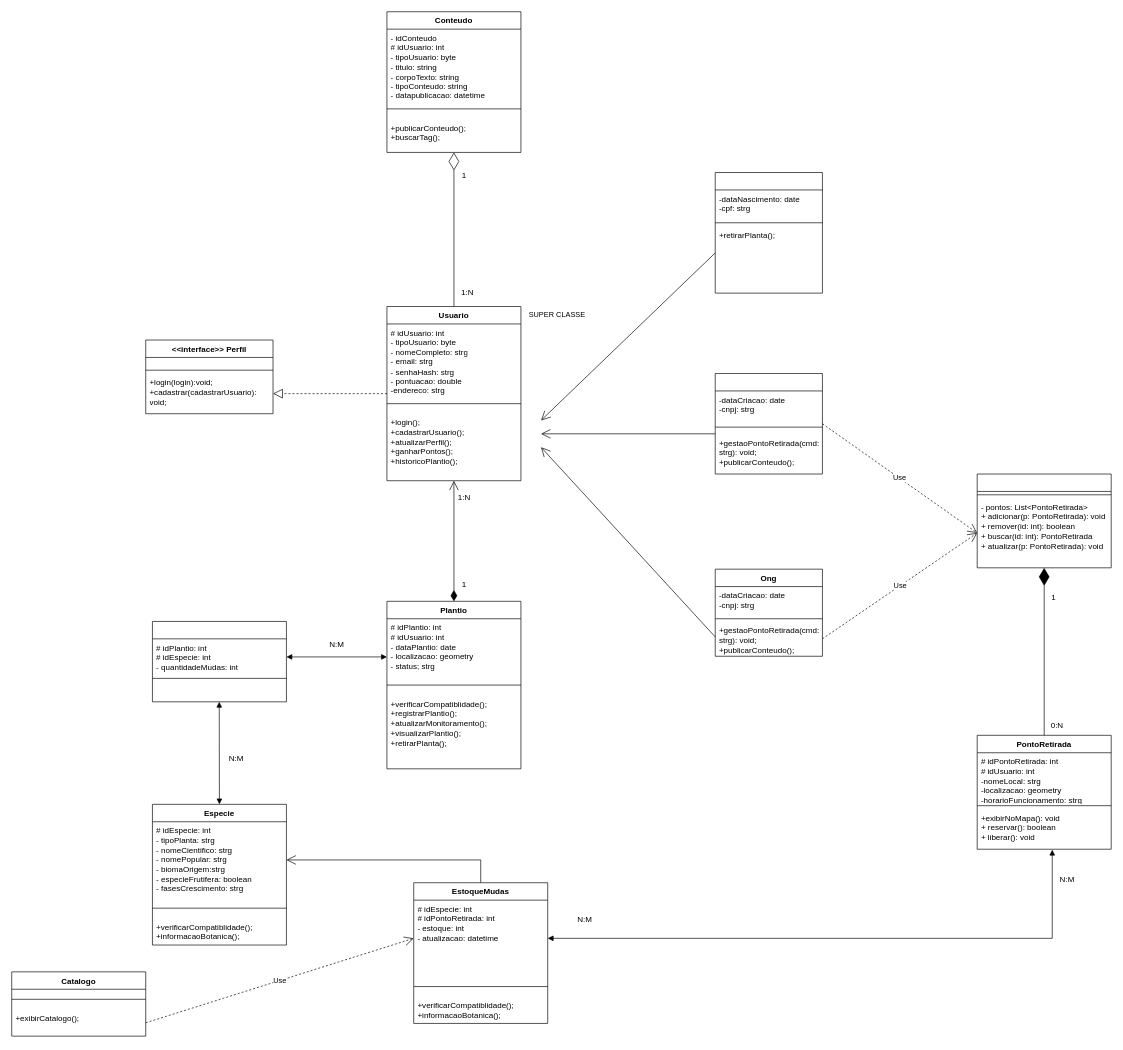
Some shapes in this 1123 by 1050 pixel diagram are drawn without their labels. Each missing label, with the box of its shape:
DetalhePlantio: (152, 621, 286, 702)
PessoaFisica: (715, 172, 822, 293)
PessoaJuridica: (715, 373, 822, 474)
PontoRetiradaService: (977, 473, 1111, 568)
